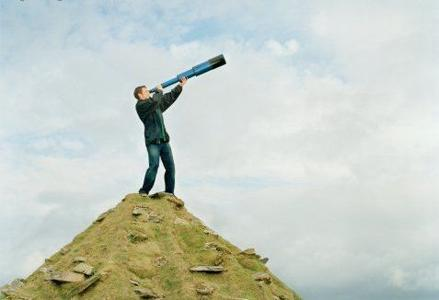person: (133, 76, 192, 196)
